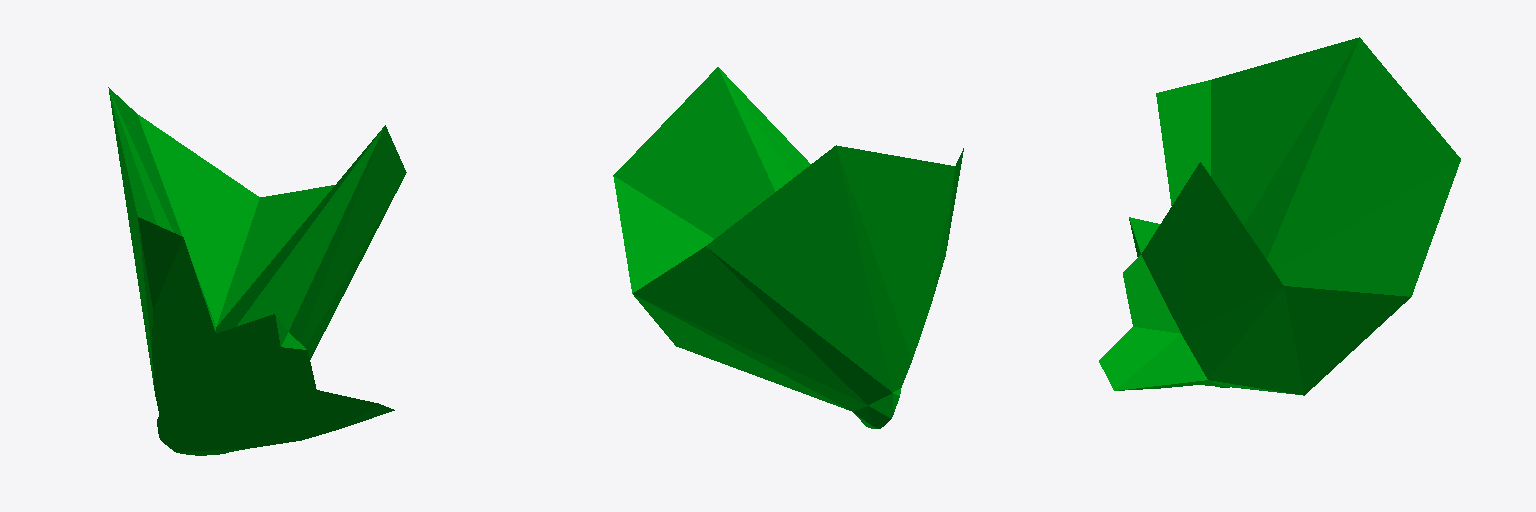
The model's file is aquaticbush_1.obj.
The picture shows the model from 3 angles: view 1: azimuth 30°, elevation 25°; view 2: azimuth 150°, elevation 25°; view 3: azimuth 270°, elevation 25°; orthographic projection.
Parts seen in each view (by area): view 1: Icosphere.006; view 2: Icosphere.006; view 3: Icosphere.006.
Boxes of the visible parts, x1,y1,x2,y2 form: Icosphere.006: [108, 87, 406, 455]; Icosphere.006: [613, 67, 963, 428]; Icosphere.006: [1099, 37, 1460, 395].
Size of the model in its own units: 1.16 by 1.21 by 1.19.